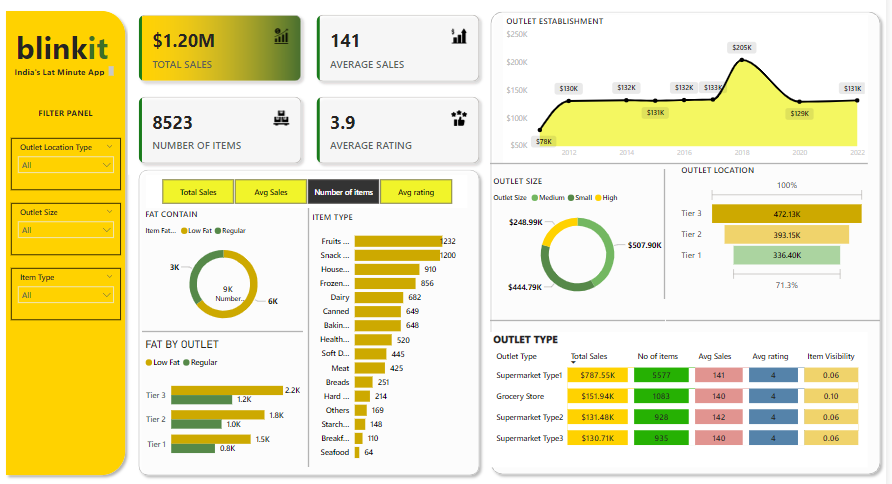

What the dashboard file says about the page in this screenshot:
{"tool":"powerbi","page":{"name":"Page 1","canvas":[1400,800],"ordinal":0},"visuals":[{"type":"shape","box":[4.7,26.8,206.3,749.6],"z":0},{"type":"textbox","box":[420.5,102.4,204.7,80.3],"z":1000},{"type":"textbox","box":[253.5,645.7,204.7,130.7],"z":2000},{"type":"textbox","box":[420.5,489.8,204.7,155.9],"z":3000},{"type":"textbox","box":[15.7,55.1,173.2,75.6],"z":4000},{"type":"textbox","box":[15.7,118.1,173.2,25.2],"z":5000},{"type":"cardVisual","fields":{"Data":["BlinkIT Grocery Data.Total Sales","BlinkIT Grocery Data.Avg Sales","BlinkIT Grocery Data.Number of items","BlinkIT Grocery Data.Avg rating"]},"box":[206.3,25.2,570.1,269.3],"z":6000},{"type":"shape","box":[214.2,277.2,554.3,499.2],"z":7000},{"type":"donutChart","title":"FAT CONTAIN","fields":{"Y":["BlinkIT Grocery Data.Number of items"],"Category":["BlinkIT Grocery Data.Item Fat Content"]},"box":[228.3,346.5,256.7,195.3],"z":8000},{"type":"slicer","fields":{"Values":["Metrix.Metrix"]},"box":[234.6,294.5,505.5,52],"z":9000},{"type":"cardVisual","fields":{"Data":["BlinkIT Grocery Data.Number of items"]},"box":[321.3,447.2,85,53.5],"z":10000},{"type":"clusteredBarChart","title":"FAT BY OUTLET","fields":{"Y":["BlinkIT Grocery Data.Number of items"],"Category":["BlinkIT Grocery Data.Outlet Location Type"],"Series":["BlinkIT Grocery Data.Item Fat Content"]},"box":[228.3,551.2,253.5,203.1],"z":11000},{"type":"shape","box":[228.3,518.1,253.5,45.7],"z":12000},{"type":"shape","box":[363.8,346.5,253.5,407.9],"z":13000},{"type":"barChart","title":"ITEM TYPE","fields":{"Y":["BlinkIT Grocery Data.Number of items"],"Category":["BlinkIT Grocery Data.Item Type"]},"box":[491.3,351.2,236.2,403.1],"z":14000},{"type":"shape","box":[768.5,28.3,631.5,746.5],"z":15000},{"type":"lineChart","title":"OUTLET ESTABLISHMENT","fields":{"Y":["BlinkIT Grocery Data.Total Sales"],"Category":["BlinkIT Grocery Data.Outlet Establishment Year"]},"box":[796.9,42.5,574.8,234.6],"z":16000},{"type":"shape","box":[776.4,253.5,595.3,45.7],"z":17000},{"type":"donutChart","title":"OUTLET SIZE","fields":{"Y":["BlinkIT Grocery Data.Total Sales"],"Category":["BlinkIT Grocery Data.Outlet Size"]},"box":[776.4,294.5,275.6,206.3],"z":18000},{"type":"shape","box":[924.4,285,253.5,204.7],"z":19000},{"type":"funnel","title":"OUTLET LOCATION","fields":{"Category":["BlinkIT Grocery Data.Outlet Location Type"],"Y":["Sum(BlinkIT Grocery Data.Sales)"]},"box":[1072.4,277.2,299.2,204.7],"z":20000},{"type":"shape","box":[776.4,500.8,275.6,45.7],"z":21000},{"type":"shape","box":[1053.5,503.9,337,45.7],"z":22000},{"type":"pivotTable","title":"OUTLET TYPE","fields":{"Rows":["BlinkIT Grocery Data.Outlet Type"],"Values":["BlinkIT Grocery Data.Total Sales","BlinkIT Grocery Data.Number of items","BlinkIT Grocery Data.Avg Sales","BlinkIT Grocery Data.Avg rating","Avg(BlinkIT Grocery Data.Item Visibility)"]},"box":[776.4,541.7,595.3,212.6],"z":23000},{"type":"slicer","fields":{"Values":["BlinkIT Grocery Data.Outlet Location Type"]},"box":[22,236.2,173.2,81.9],"z":24000},{"type":"slicer","fields":{"Values":["BlinkIT Grocery Data.Item Type"]},"box":[22,440.9,173.2,81.9],"z":25000},{"type":"slicer","fields":{"Values":["BlinkIT Grocery Data.Outlet Size"]},"box":[22,338.6,173.2,81.9],"z":26000},{"type":"textbox","box":[15.7,182.7,184.3,48.8],"z":26001}]}

Visuals, with their boxes on the page's 1400x800 design canvas (x1, y1, x2, y2). These are canvas units, not pixel positions in the 892x484 screenshot, which may show the page scaled, cropped or inside an application window:
shape: [x1=5, y1=27, x2=211, y2=776]
textbox: [x1=420, y1=102, x2=625, y2=183]
textbox: [x1=254, y1=646, x2=458, y2=776]
textbox: [x1=420, y1=490, x2=625, y2=646]
textbox: [x1=16, y1=55, x2=189, y2=131]
textbox: [x1=16, y1=118, x2=189, y2=143]
cardVisual - BlinkIT Grocery Data.Total Sales x BlinkIT Grocery Data.Avg Sales: [x1=206, y1=25, x2=776, y2=294]
shape: [x1=214, y1=277, x2=768, y2=776]
"FAT CONTAIN" donutChart: [x1=228, y1=346, x2=485, y2=542]
slicer - Metrix.Metrix: [x1=235, y1=294, x2=740, y2=346]
cardVisual - BlinkIT Grocery Data.Number of items: [x1=321, y1=447, x2=406, y2=501]
"FAT BY OUTLET" clusteredBarChart: [x1=228, y1=551, x2=482, y2=754]
shape: [x1=228, y1=518, x2=482, y2=564]
shape: [x1=364, y1=346, x2=617, y2=754]
"ITEM TYPE" barChart: [x1=491, y1=351, x2=728, y2=754]
shape: [x1=768, y1=28, x2=1400, y2=775]
"OUTLET ESTABLISHMENT" lineChart: [x1=797, y1=42, x2=1372, y2=277]
shape: [x1=776, y1=254, x2=1372, y2=299]
"OUTLET SIZE" donutChart: [x1=776, y1=294, x2=1052, y2=501]
shape: [x1=924, y1=285, x2=1178, y2=490]
"OUTLET LOCATION" funnel: [x1=1072, y1=277, x2=1372, y2=482]
shape: [x1=776, y1=501, x2=1052, y2=546]
shape: [x1=1054, y1=504, x2=1390, y2=550]
"OUTLET TYPE" pivotTable: [x1=776, y1=542, x2=1372, y2=754]
slicer - BlinkIT Grocery Data.Outlet Location Type: [x1=22, y1=236, x2=195, y2=318]
slicer - BlinkIT Grocery Data.Item Type: [x1=22, y1=441, x2=195, y2=523]
slicer - BlinkIT Grocery Data.Outlet Size: [x1=22, y1=339, x2=195, y2=420]
textbox: [x1=16, y1=183, x2=200, y2=232]
